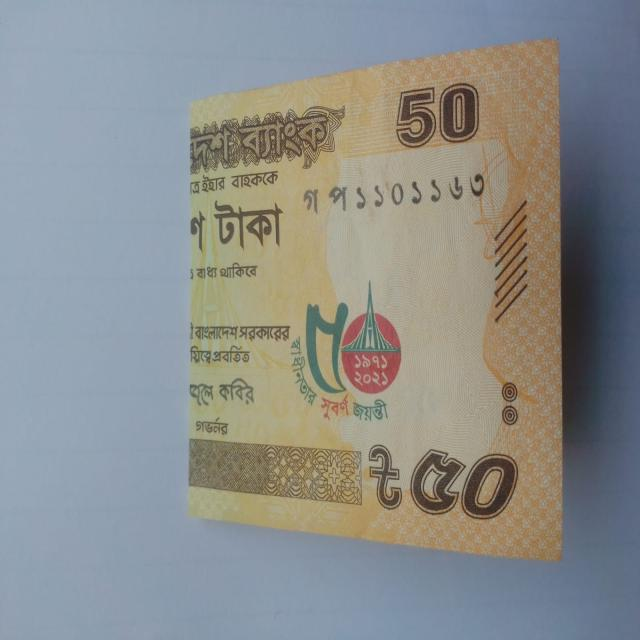Taka: (185, 58, 574, 564)
